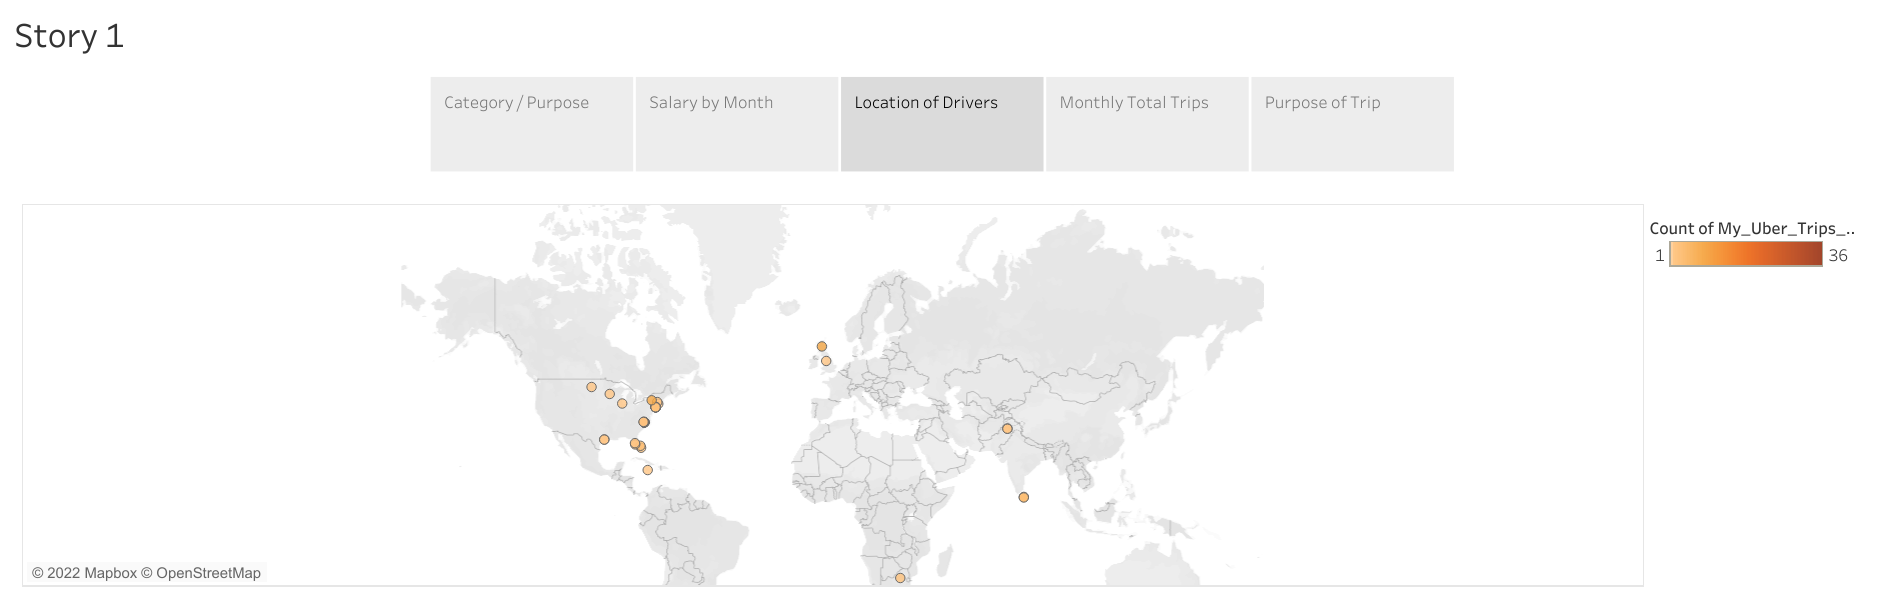

The page's visual inventory and layout, read from the dashboard file:
{"tool":"tableau","page":{"name":"Location Dashboard","canvas":[650,860],"ordinal":1},"visuals":[{"type":"worksheet","title":"Start Locations","mark":"Multipolygon","rows":["Latitude"],"cols":["Longitude"],"box":[8,9.8,498,420.2]},{"type":"legend","title":"Start Locations","param":"[federated.1osd48y1af4prt1544j5q0o9mn8o].[none:PURPOSE:nk]","box":[506,9.8,136,276.5]},{"type":"worksheet","title":"End Location","mark":"Automatic","rows":["Latitude.1"],"cols":["Longitude.1"],"box":[8,430,498,420.2]}]}

Visuals, with their boxes on the page's 650x860 design canvas (x1, y1, x2, y2). These are canvas units, not pixel positions in the 1881x607 screenshot, which may show the page scaled, cropped or inside an application window:
"Start Locations" worksheet (Multipolygon marks): <box>8,10,506,430</box>
"Start Locations" legend: <box>506,10,642,286</box>
"End Location" worksheet: <box>8,430,506,850</box>
